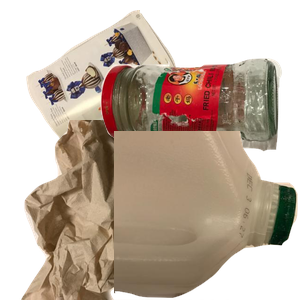glass: (98, 56, 300, 201)
paper: (24, 10, 235, 190)
plastic: (114, 131, 300, 300)
trash: (19, 120, 249, 300)
